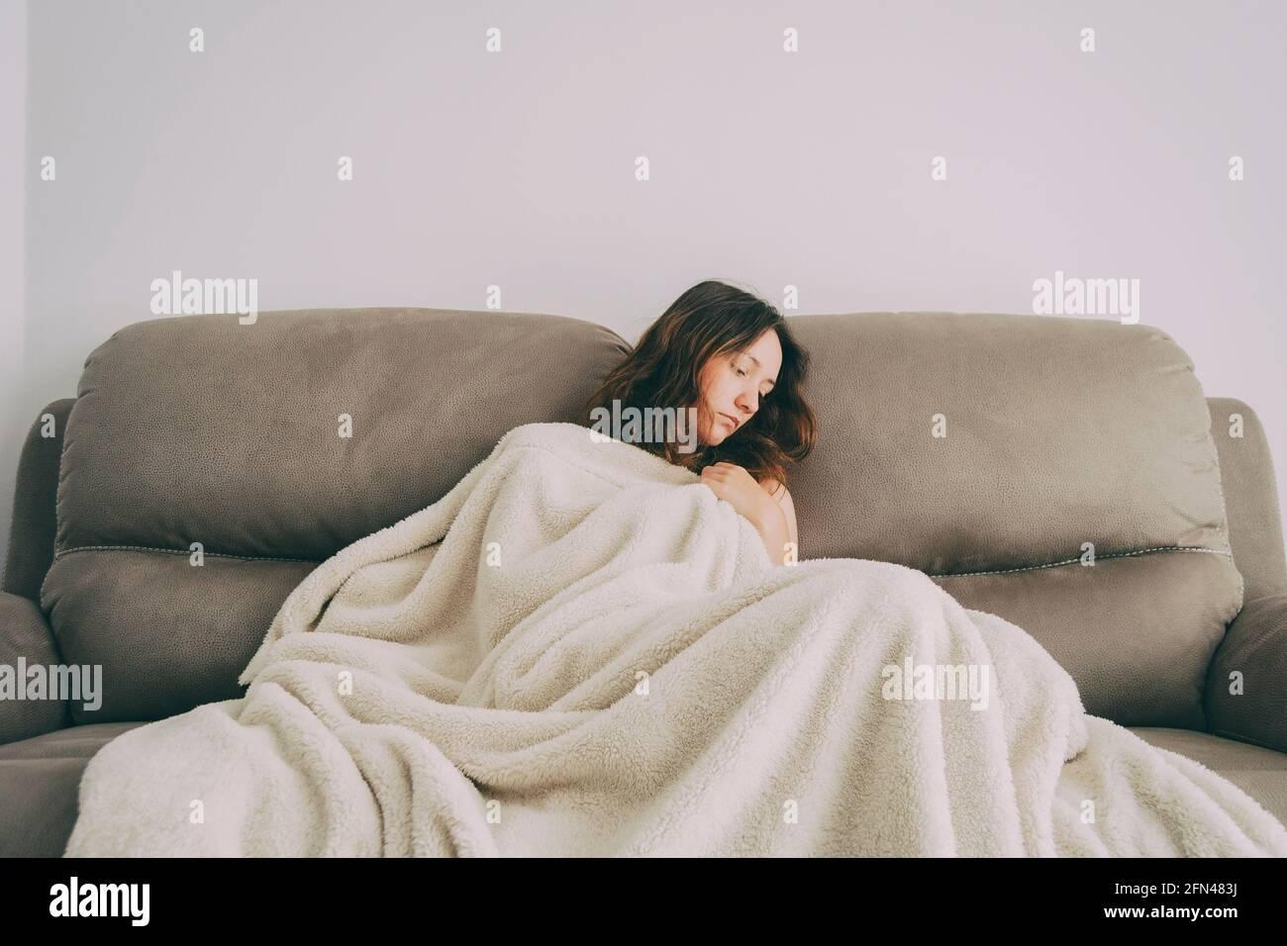blanket: (62, 418, 1287, 859)
